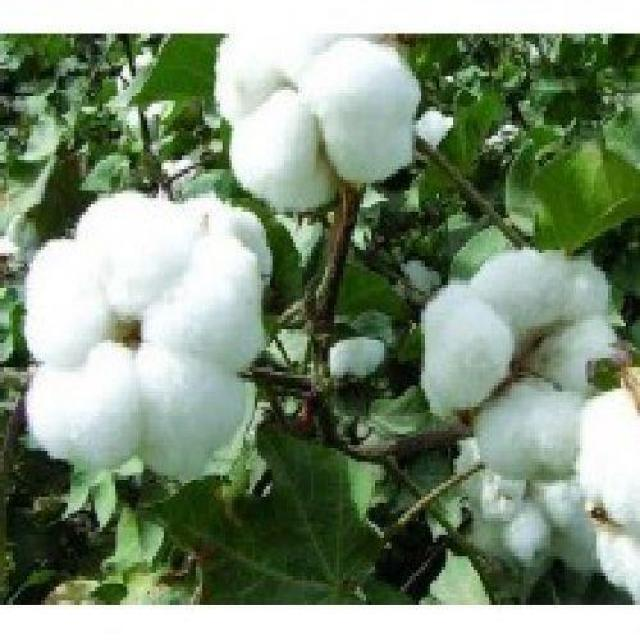Leaf: (15, 176, 281, 492), (405, 225, 634, 506), (211, 31, 427, 228), (563, 376, 640, 609)
